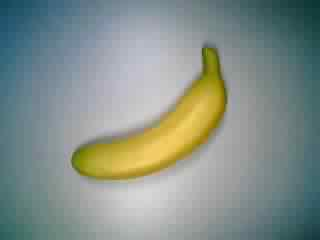banana: (63, 42, 232, 182)
